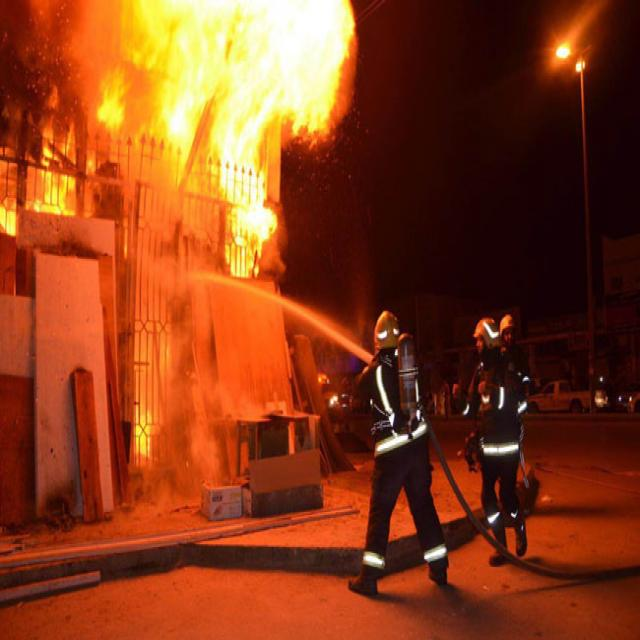Fire: (101, 0, 358, 261)
